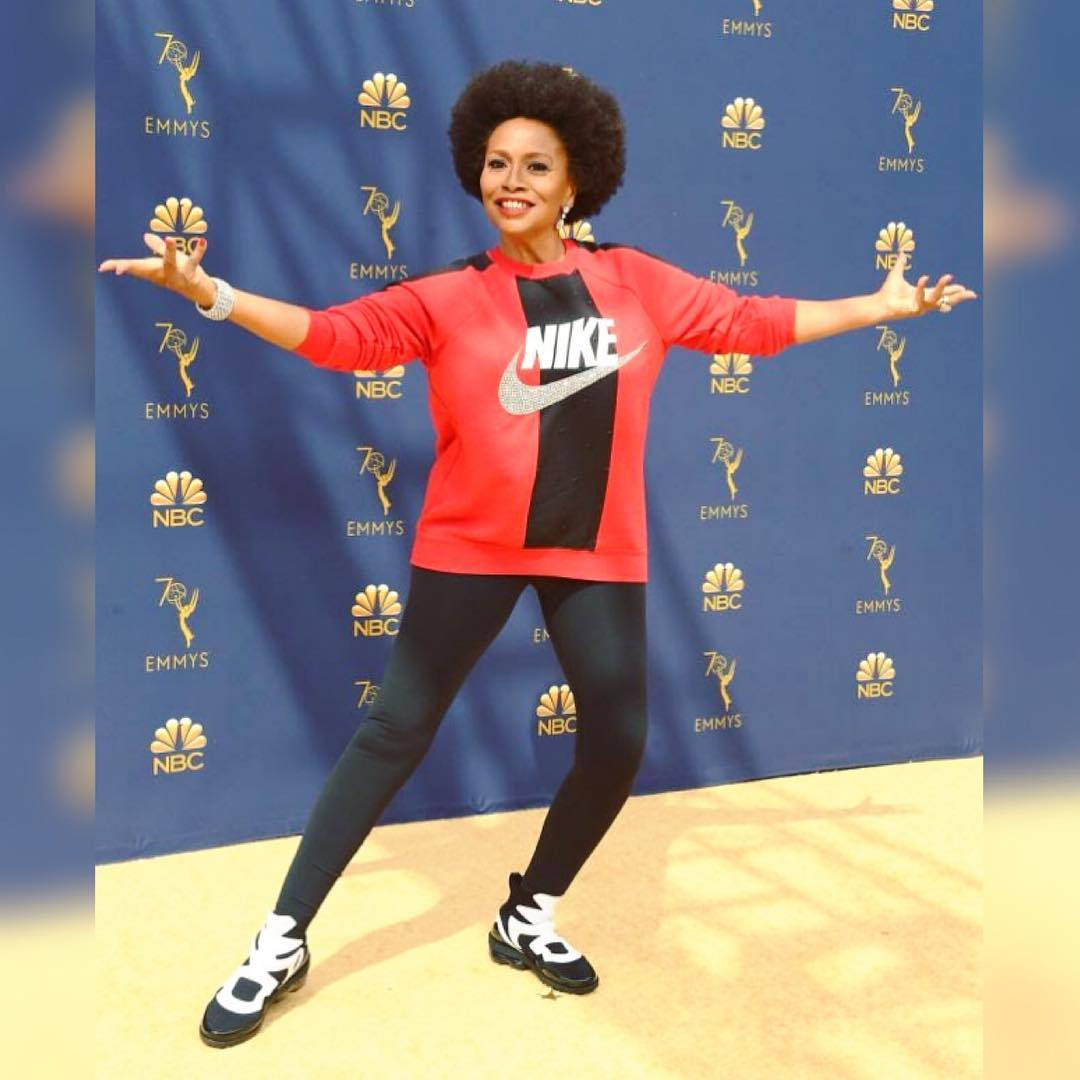hand: (879, 249, 966, 304)
